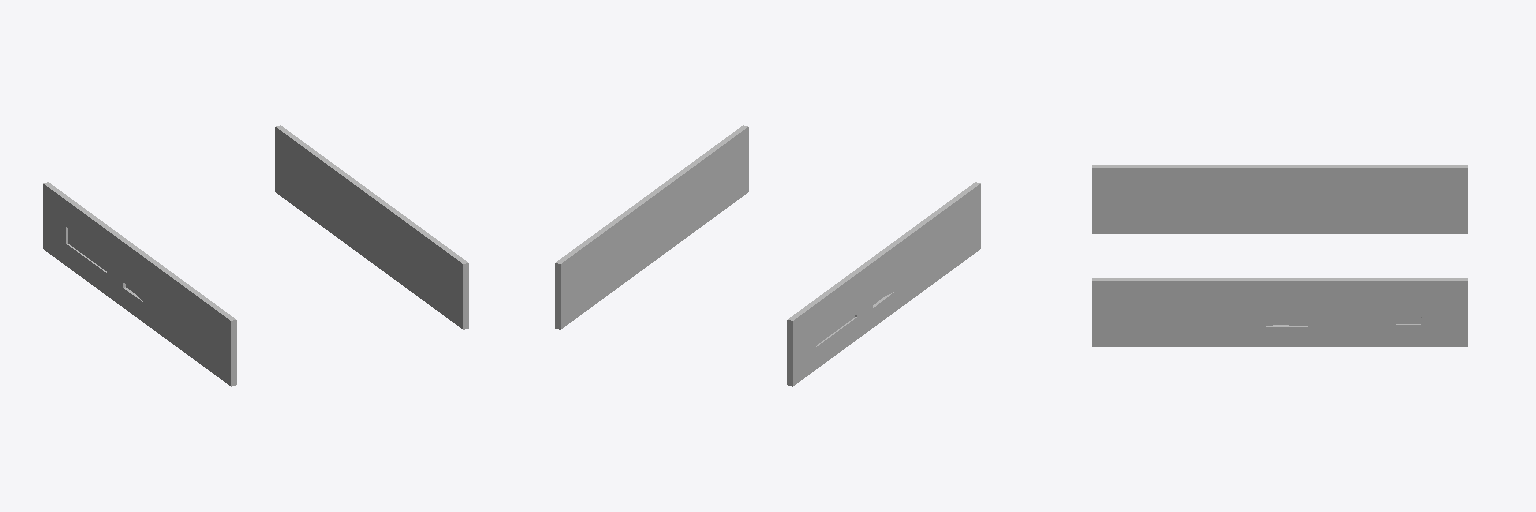
File: hull-side-protection.obj
3 renders of one model, left to right at view 1: azimuth 30°, elevation 25°; view 2: azimuth 150°, elevation 25°; view 3: azimuth 270°, elevation 25°, orthographic.
Visible parts, largest first — view 1: hull-side-protection; view 2: hull-side-protection; view 3: hull-side-protection.
Part boxes in pixels (bbox=[...]): hull-side-protection: bbox=[43, 125, 468, 386]; hull-side-protection: bbox=[555, 125, 980, 386]; hull-side-protection: bbox=[1092, 165, 1467, 346].
Size of the model in its own units: 3.3 by 0.8707 by 4.51.